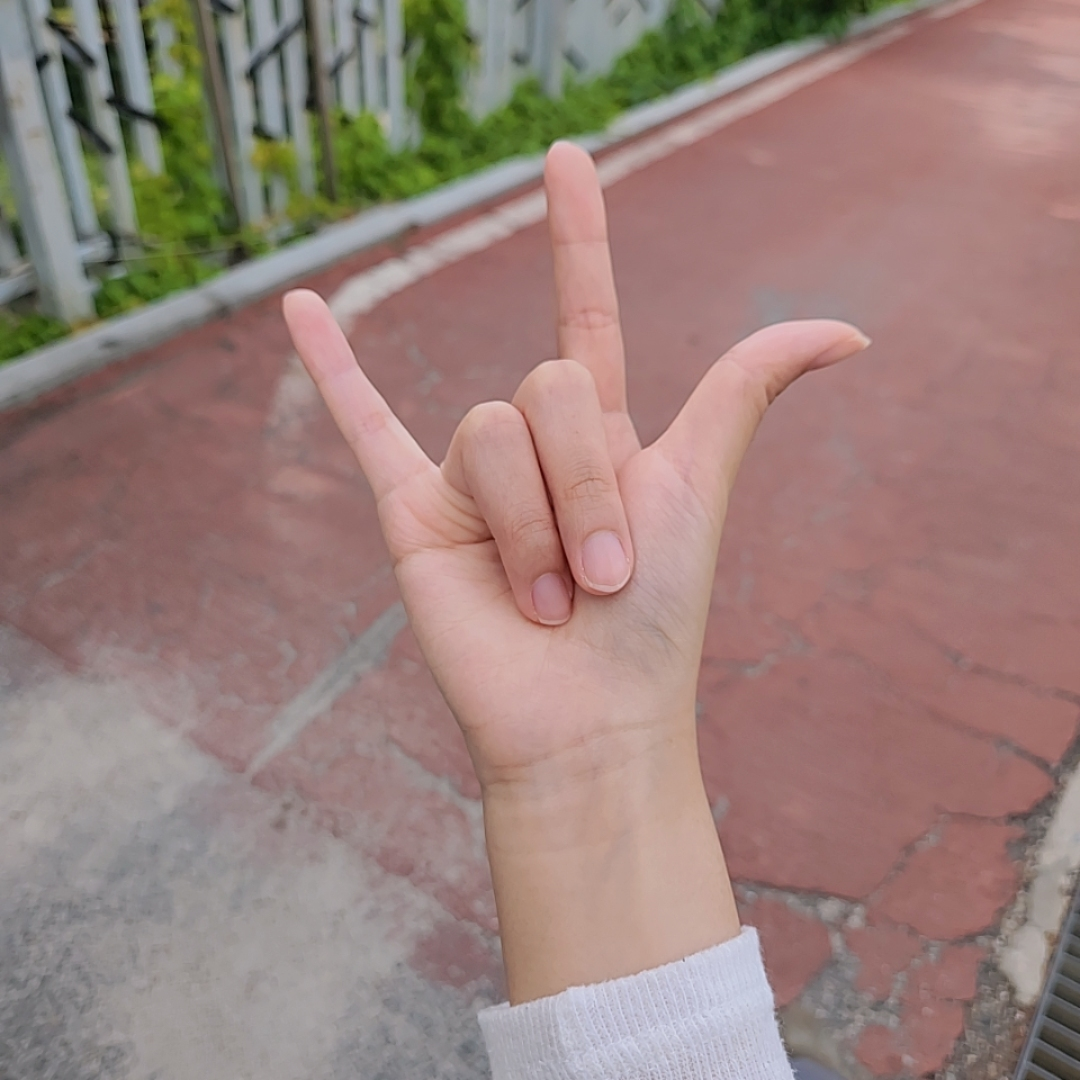iloveyou: (282, 139, 871, 726)
